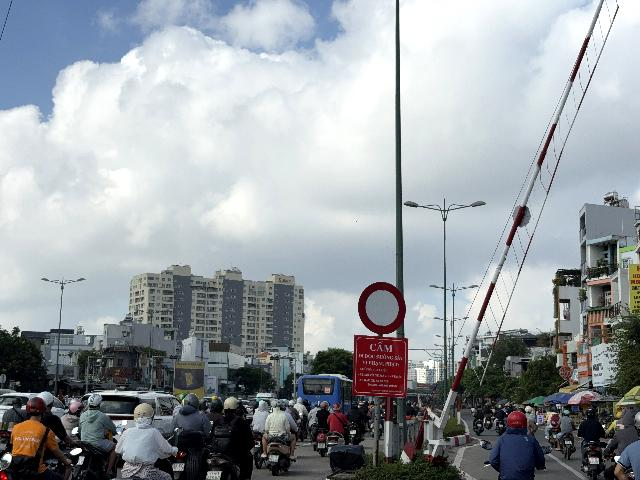duong-cam: (358, 282, 406, 334)
